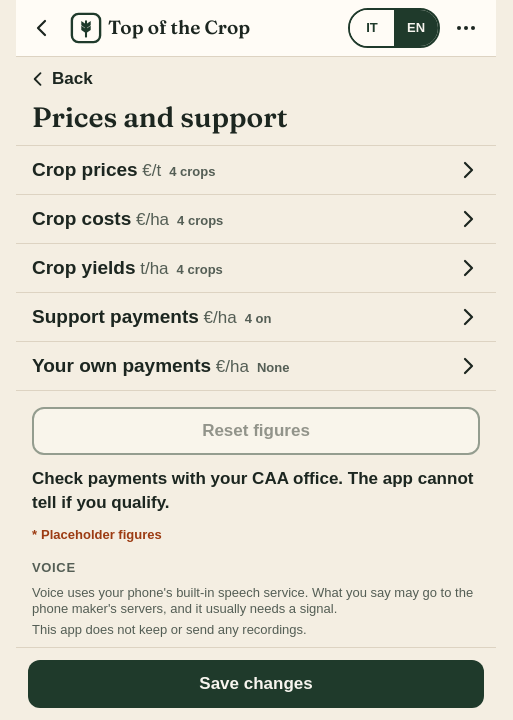
Settings › (b) a durum price of 400 goes into the link, and Options shows 835 marked Yours
Later steps or results of the test are not shown.
Click the button "Crop prices €/t 4 crops" at [85, 169], box top-left (16, 146), bottom-right (496, 194)
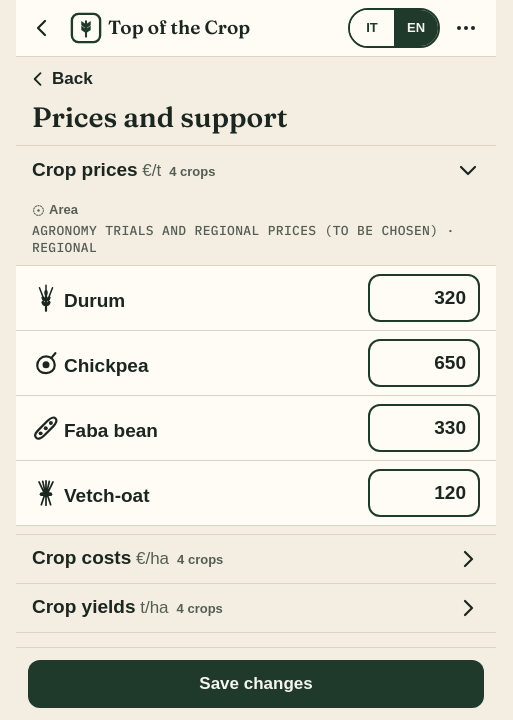
Replace the text in the field named "Durum price" with "400" at [424, 298], box top-left (368, 274), bottom-right (480, 322)
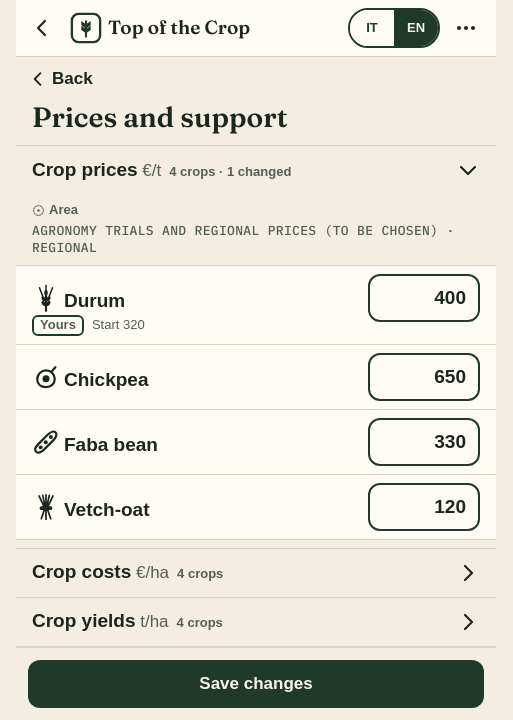
Expected: the text "Start 320" is shown, top-left (92, 317), bottom-right (145, 332)
